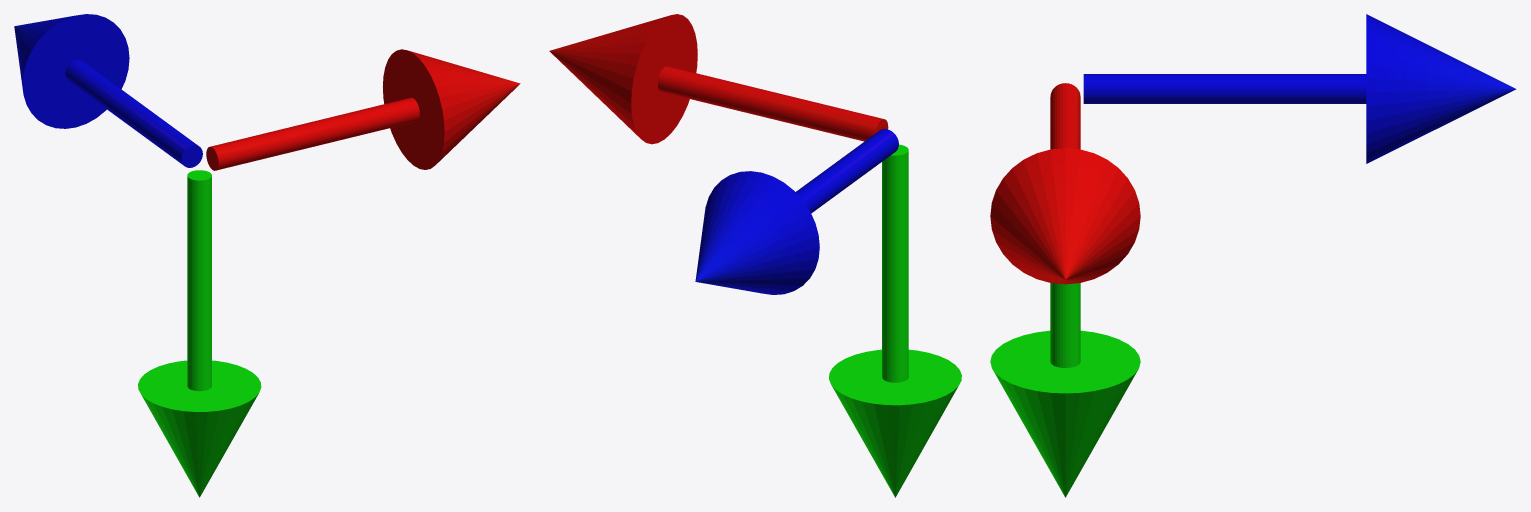
The model's file is gizmo.gltf.
3 views of the same model, side by side, from view 1: azimuth 30°, elevation 25°; view 2: azimuth 150°, elevation 25°; view 3: azimuth 270°, elevation 25° (orthographic). The views are drawn at different scales.
Parts seen in each view (by area): view 1: Gizmo; view 2: Gizmo; view 3: Gizmo.
Boxes of the visible parts, x1,y1,x2,y2 form: Gizmo: (14, 14, 520, 497); Gizmo: (549, 14, 961, 497); Gizmo: (990, 14, 1516, 497).
Bounding box in the file's own units: 1.75 × 1.75 × 1.75.
